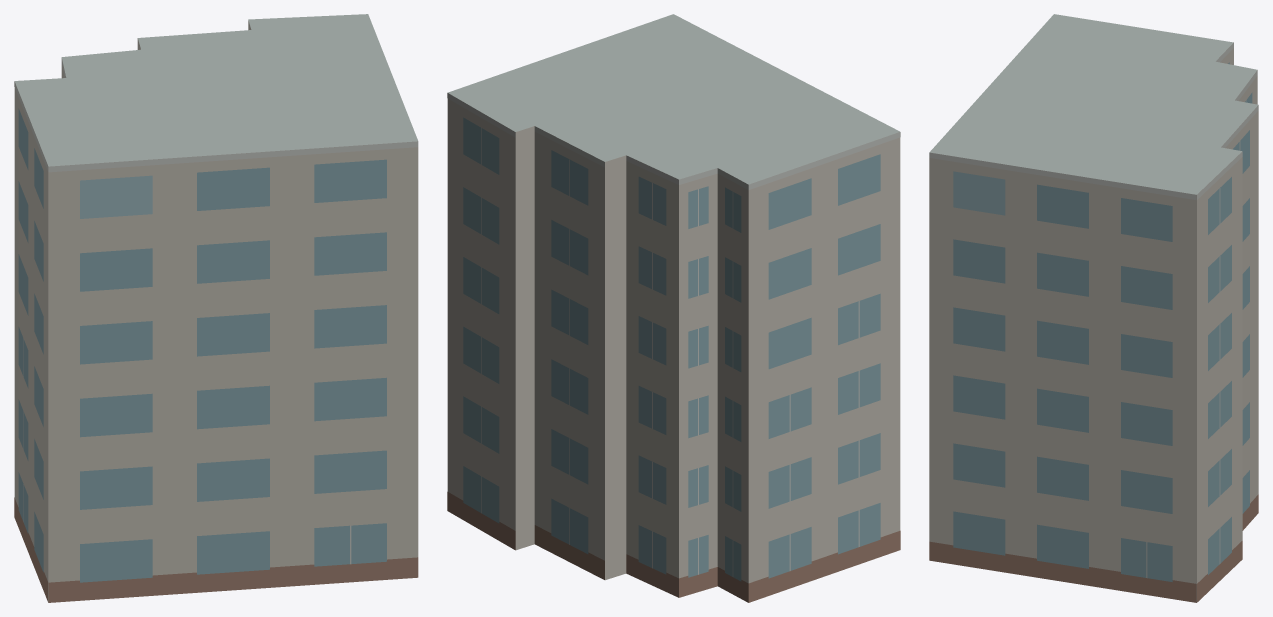
The model's file is survey-upis-32890570.glb.
3 views of the same model, side by side, from view 1: azimuth 30°, elevation 25°; view 2: azimuth 150°, elevation 25°; view 3: azimuth 270°, elevation 25° (orthographic). The views are drawn at different scales.
Visible parts, largest first — view 1: survey-upis-32890570.tmp; view 2: survey-upis-32890570.tmp; view 3: survey-upis-32890570.tmp.
Part boxes in pixels (<box>): survey-upis-32890570.tmp: <box>14,14,418,602</box>; survey-upis-32890570.tmp: <box>447,14,900,602</box>; survey-upis-32890570.tmp: <box>929,14,1258,602</box>.
Bounding box in the file's own units: 17.4 × 18.3 × 13.4.
